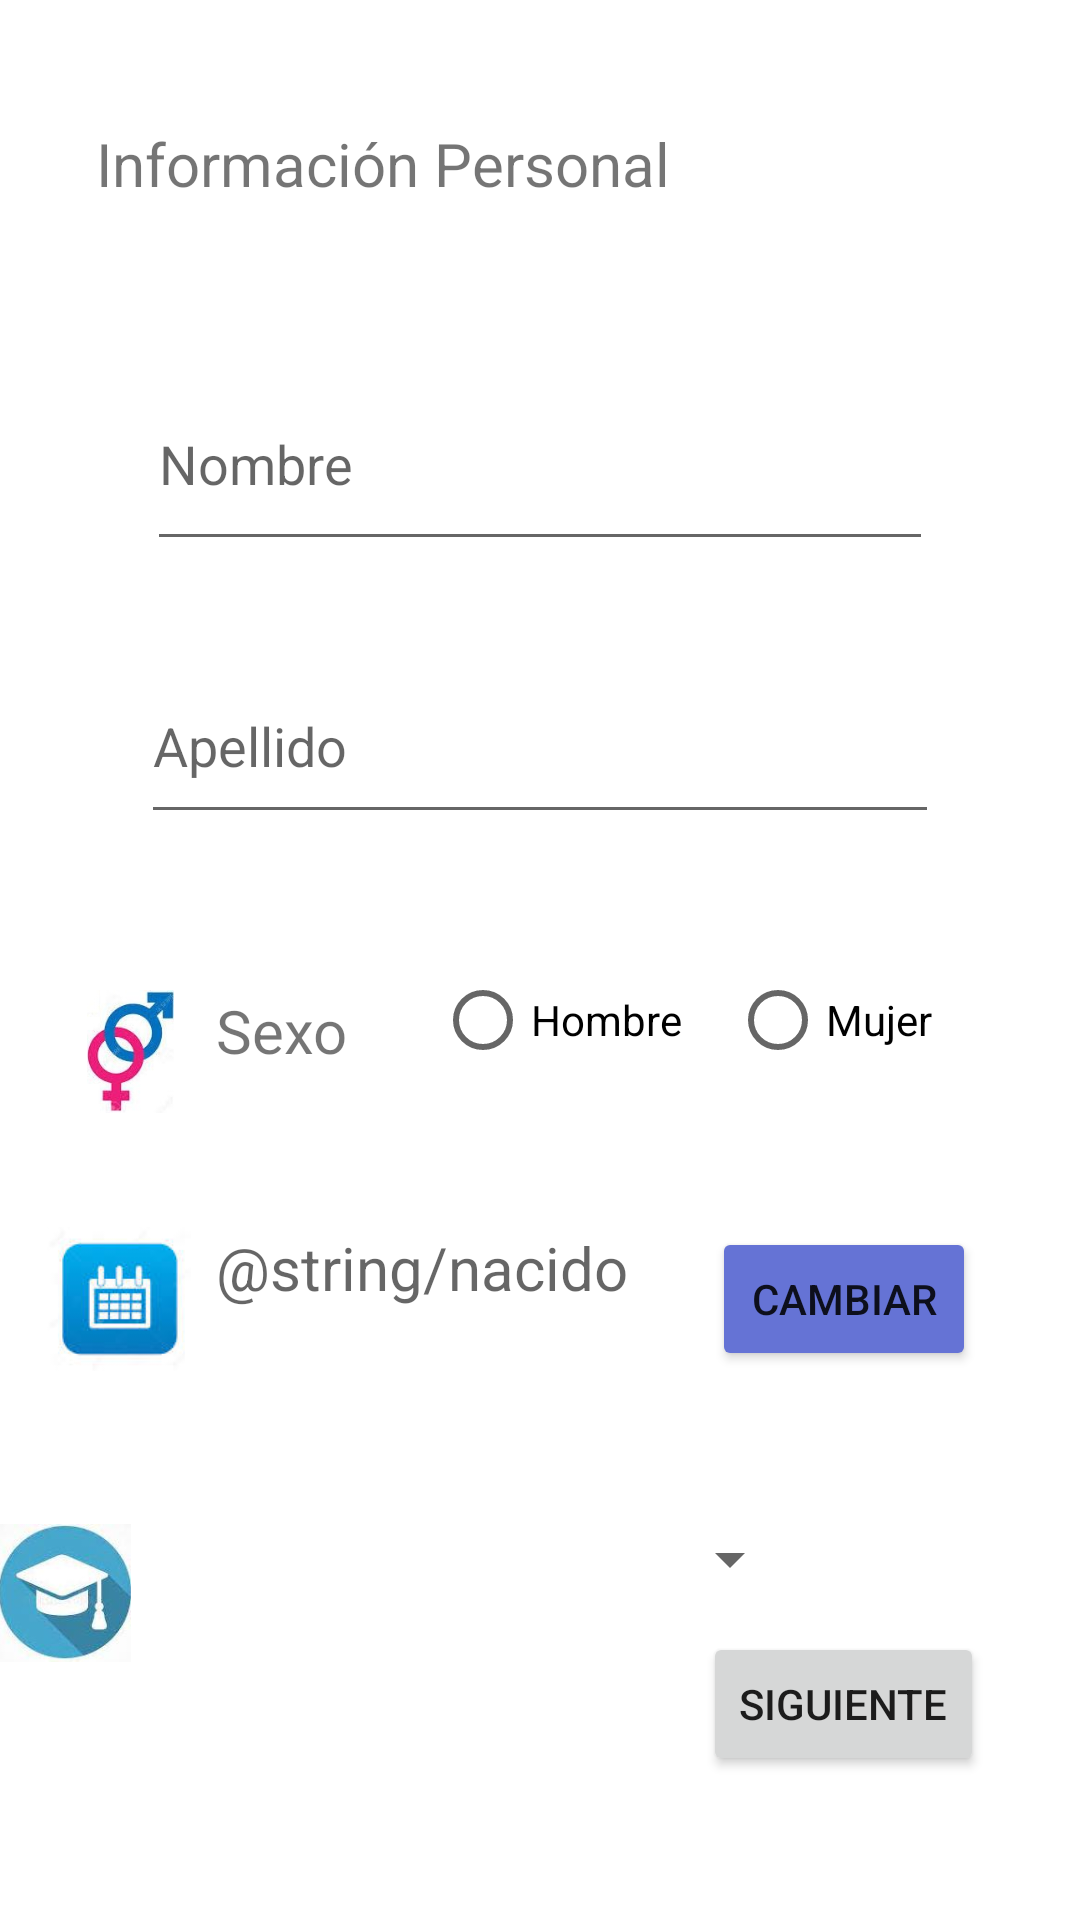

Screen size 1080px x 1920px. Icon name, then its center in pixels as point (x, y):
calendario: point (119, 1298)
graduacion: point (65, 1591)
